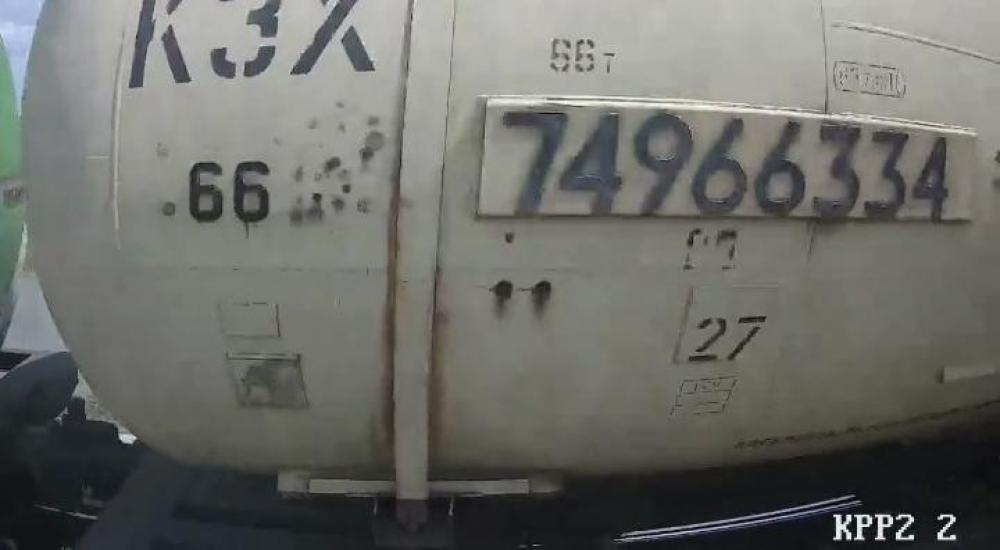Wagon-number: (493, 103, 958, 223)
